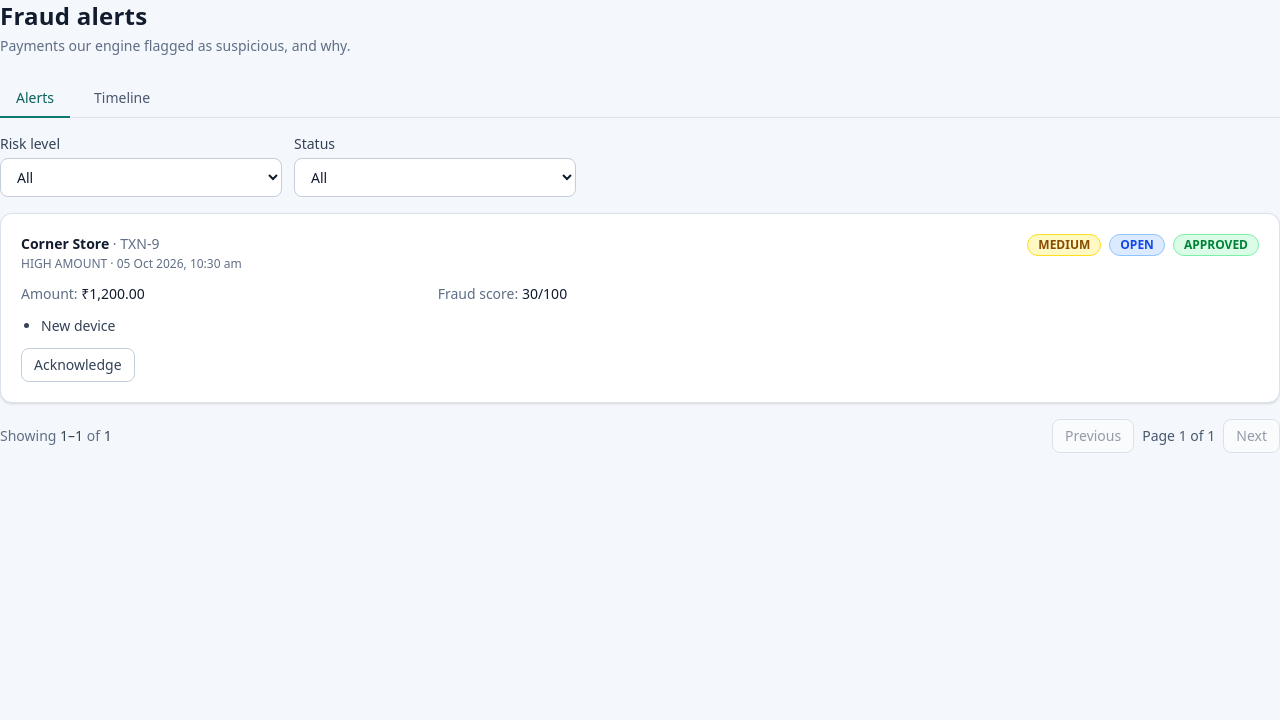
Test case: F-02 acknowledge MEDIUM alerts › confirm dialog -> PATCH -> row becomes ACKNOWLEDGED, button gone, toast text via dialog closing
Click the button with aria-label "Acknowledge alert for Corner Store": {"x": 78, "y": 365} [21,348,135,382]
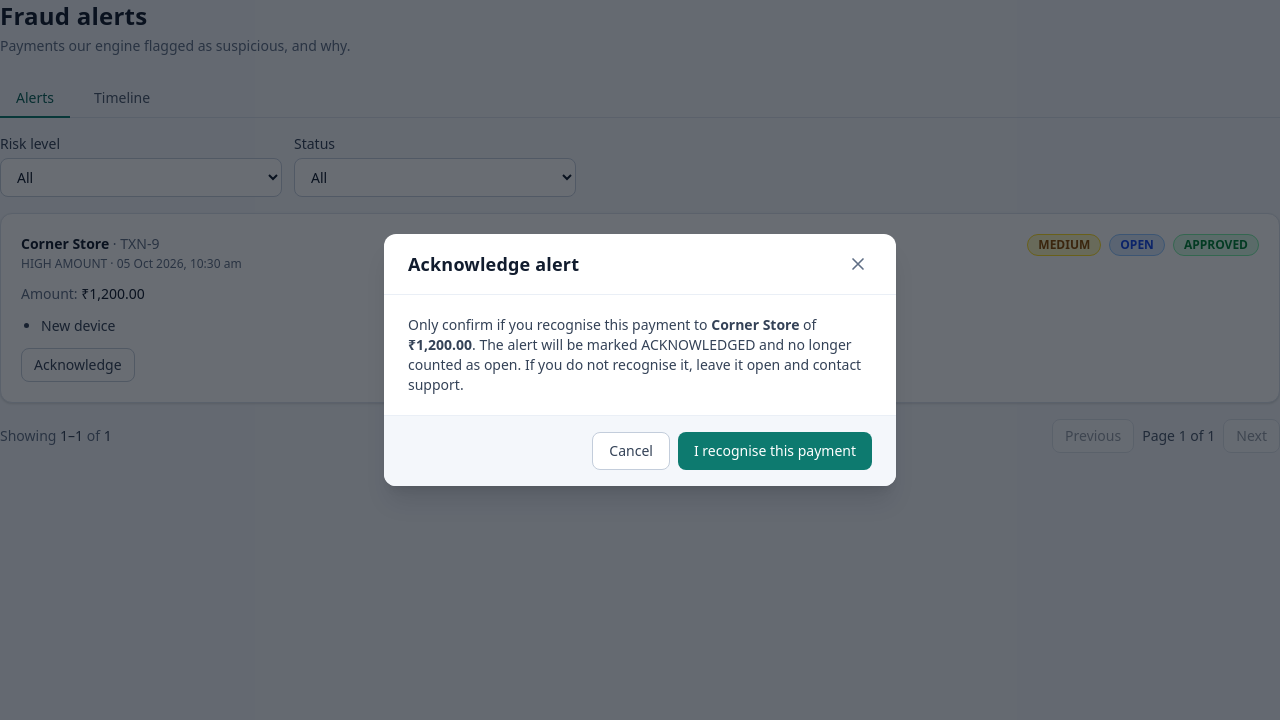
Result: the text "Only confirm if you recognise this payment" is shown at [408,315,690,334]
Click the button "I recognise this payment": {"x": 775, "y": 451} [678,432,872,470]
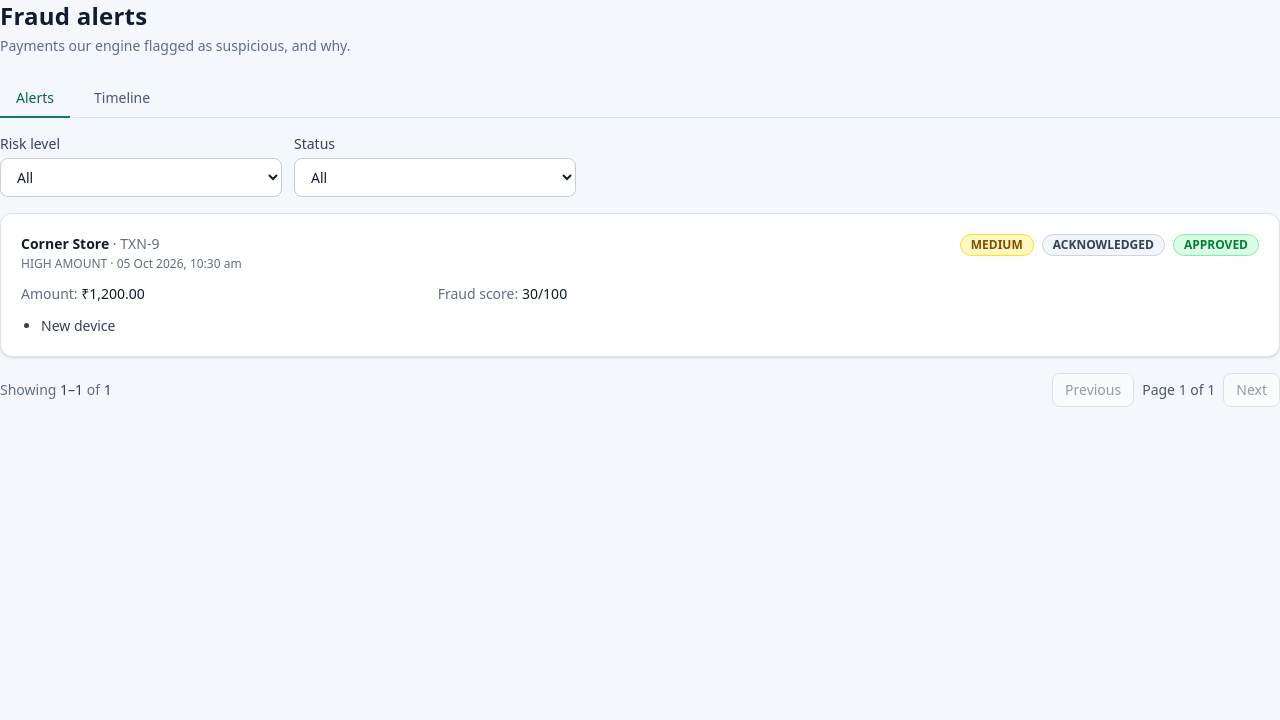
Result: the dialog is gone
